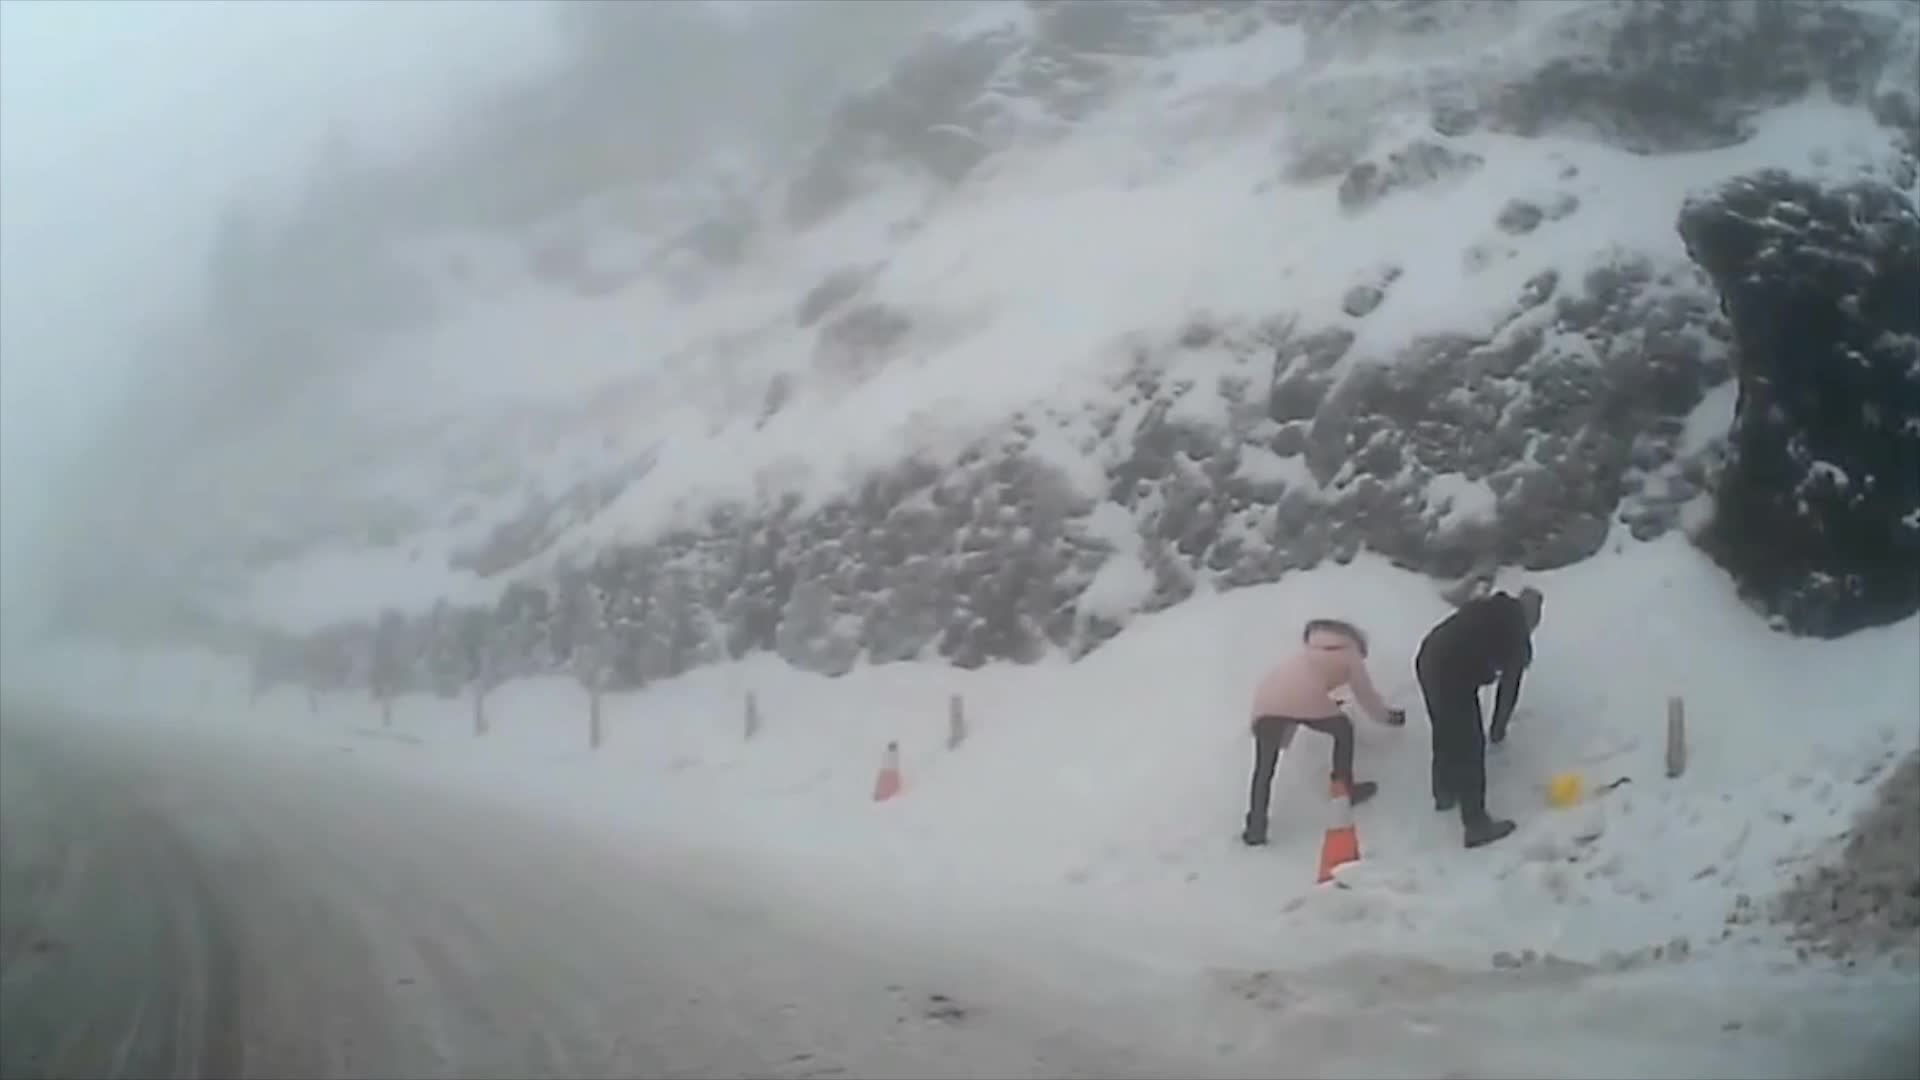pedestrian: (1240, 617, 1405, 853), (1414, 590, 1545, 850)
